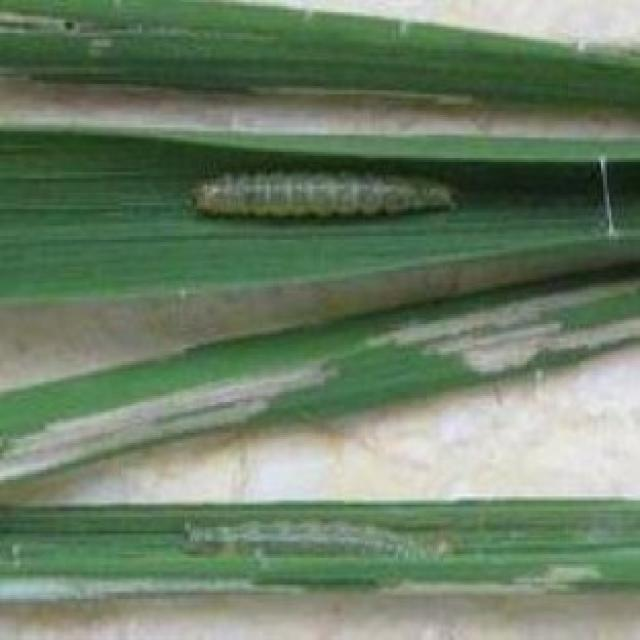brown plant hopper: (195, 174, 453, 215)
